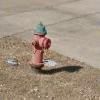Hydrant: (29, 14, 56, 76)
